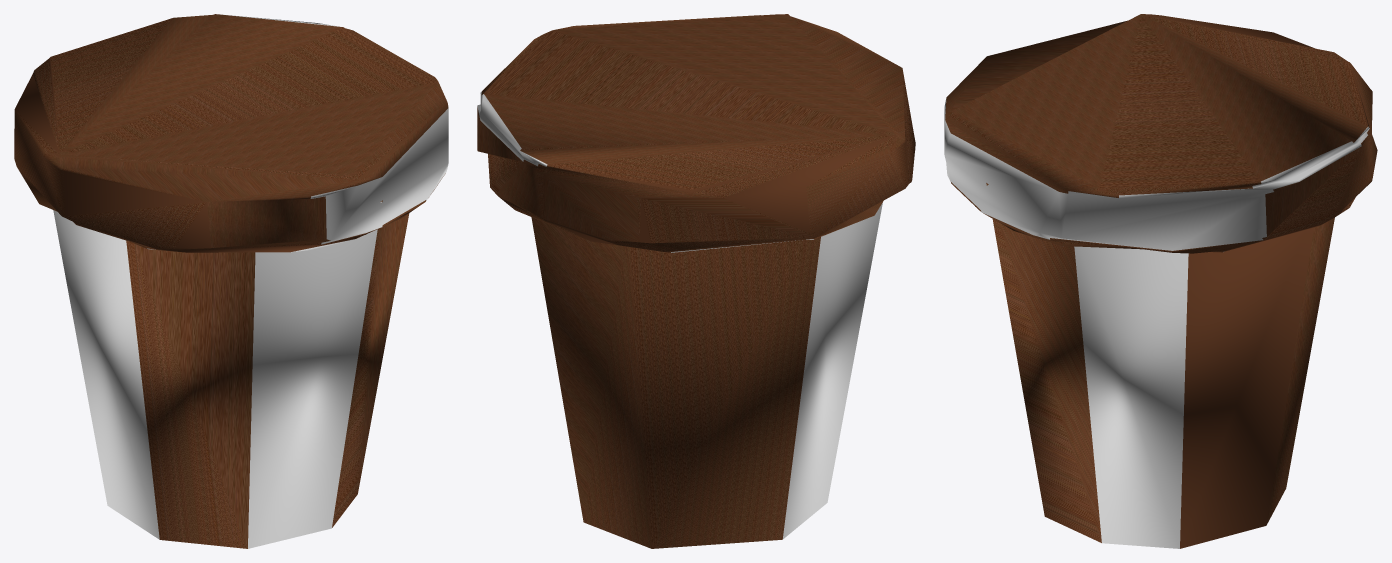
File: botright_foot.obj
3 views of the same model, side by side, from view 1: azimuth 30°, elevation 25°; view 2: azimuth 150°, elevation 25°; view 3: azimuth 270°, elevation 25° (orthographic). The views are drawn at different scales.
Parts seen in each view (by area): view 1: botright_foot_mesh9.003_mesh9-geometry; view 2: botright_foot_mesh9.003_mesh9-geometry; view 3: botright_foot_mesh9.003_mesh9-geometry.
Part boxes in pixels (<box>): botright_foot_mesh9.003_mesh9-geometry: <box>14,14,448,548</box>; botright_foot_mesh9.003_mesh9-geometry: <box>477,14,915,548</box>; botright_foot_mesh9.003_mesh9-geometry: <box>944,14,1377,548</box>.
Bounding box in the file's own units: 0.0376 × 0.0376 × 0.0375.
